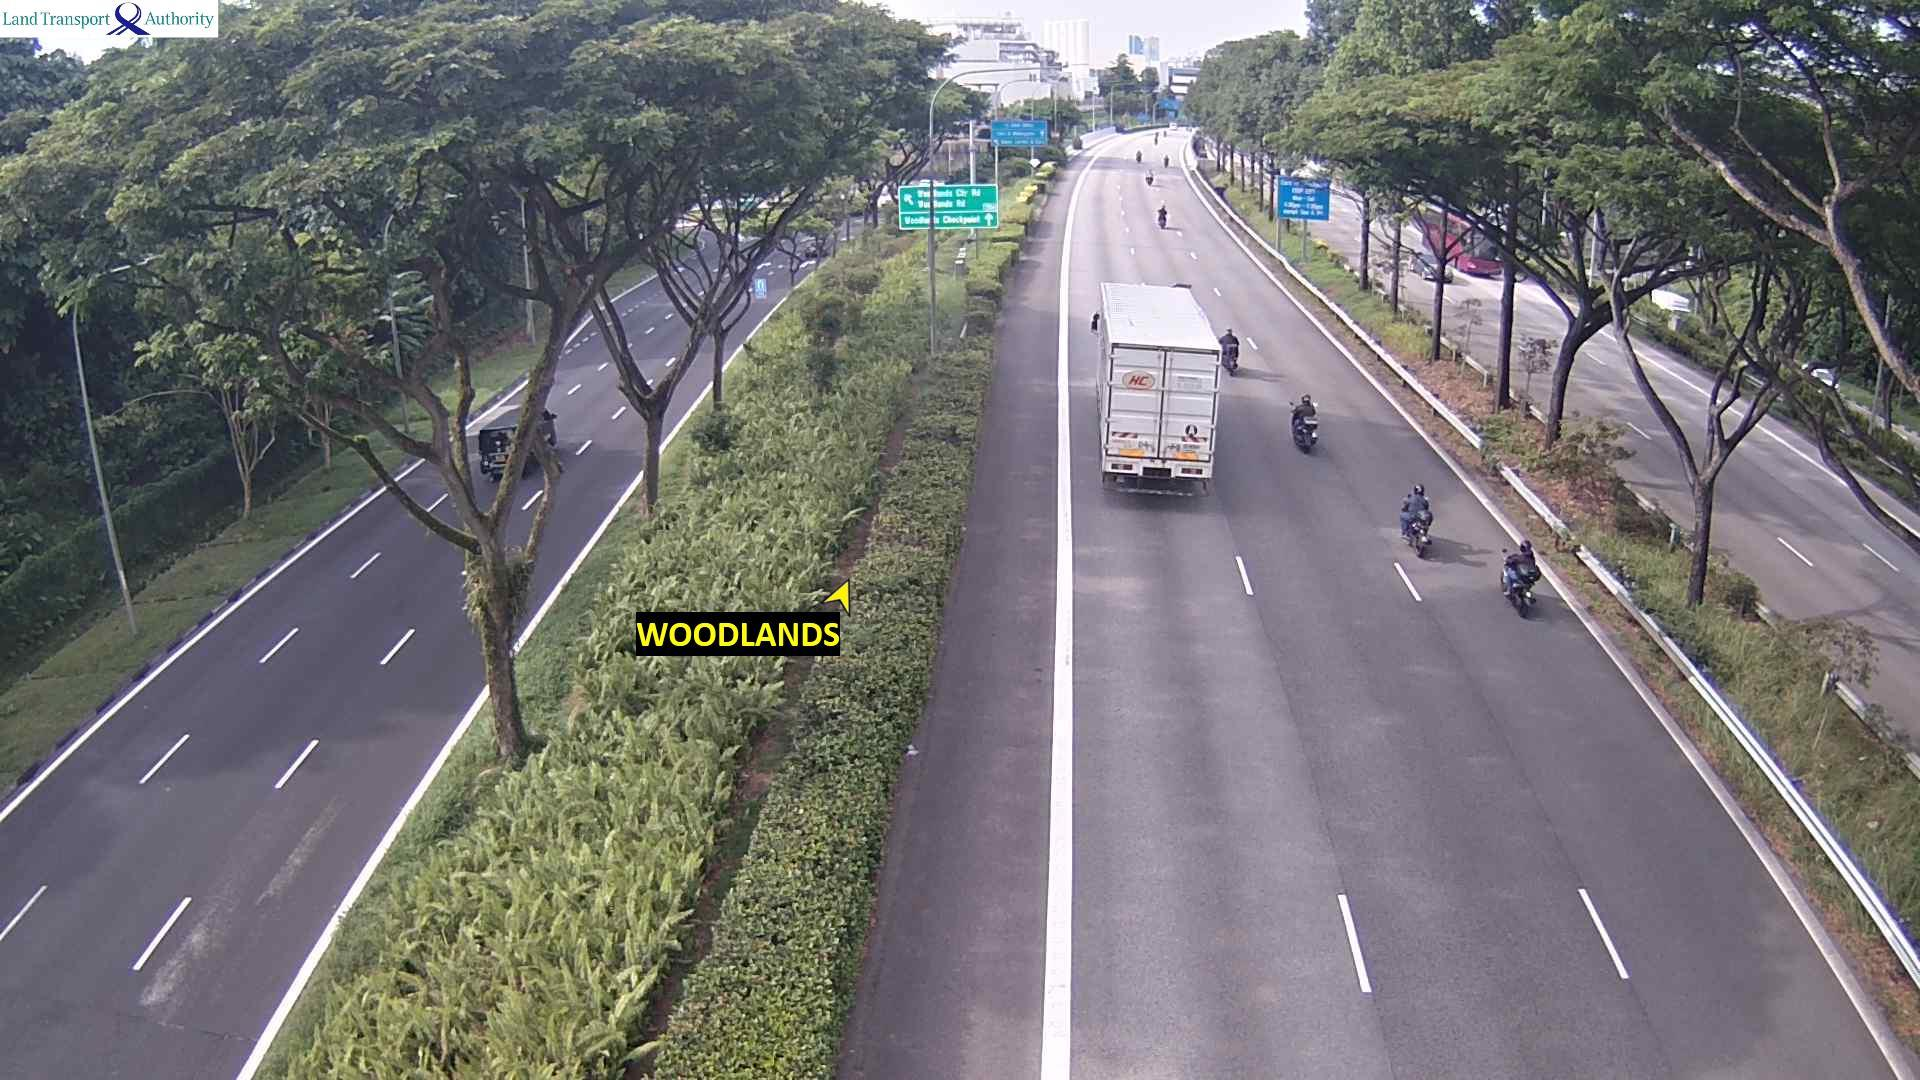bus: (1423, 206, 1502, 276)
cars: (462, 368, 556, 483), (1406, 252, 1460, 285)
motorcycle: (1501, 549, 1540, 618), (1399, 502, 1433, 556), (1288, 405, 1319, 454), (1218, 326, 1244, 375), (1155, 202, 1171, 232), (1142, 169, 1158, 186), (1135, 149, 1143, 164), (1163, 153, 1170, 167), (1153, 136, 1159, 145), (1163, 129, 1168, 138), (1155, 132, 1159, 138)
trucks: (1089, 280, 1222, 496)
